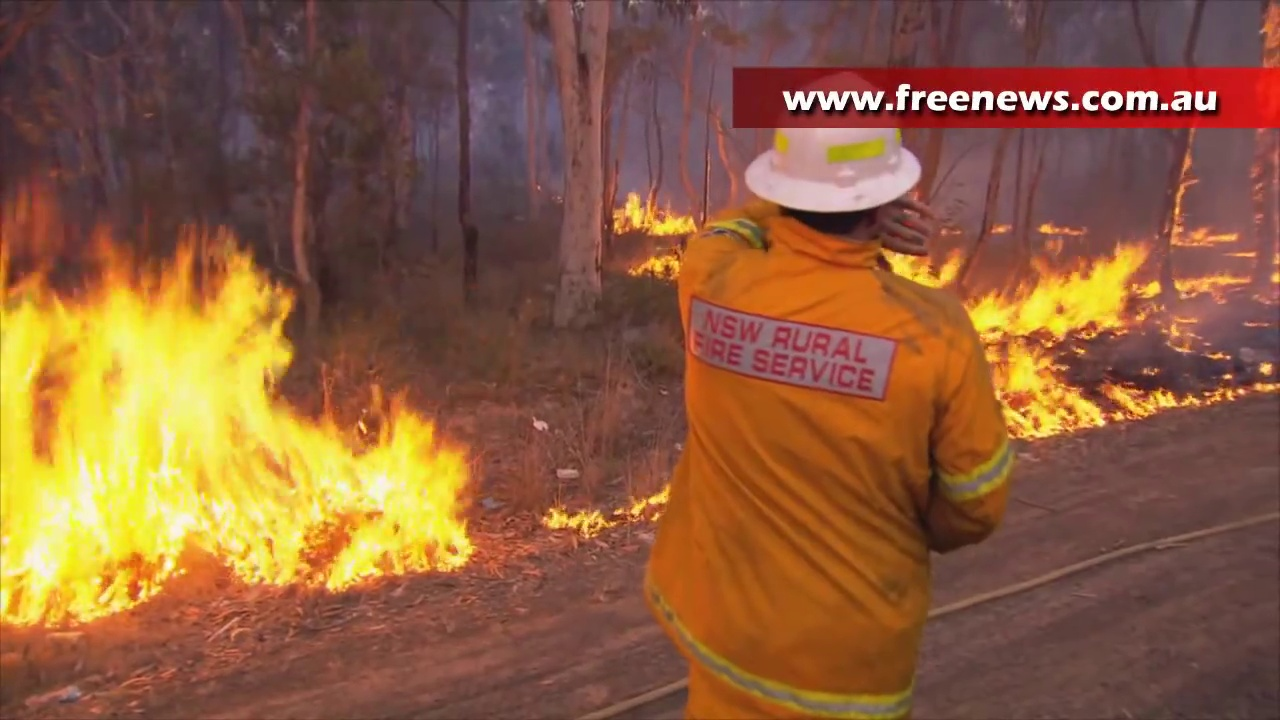fire: (1, 253, 468, 616), (981, 250, 1172, 443), (615, 194, 691, 232), (543, 498, 608, 536), (646, 485, 675, 506)
